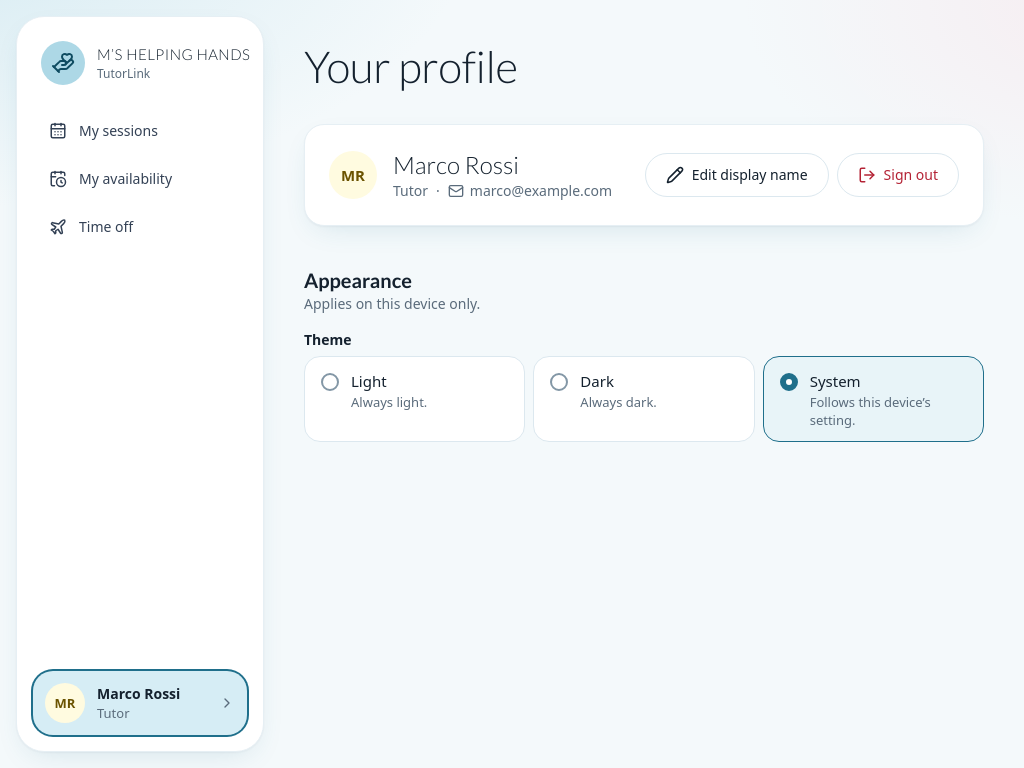
Test case: /availability › is reached from the Tutor's nav
Click the button "My availability". click: (140, 179)
box: [33,157,247,201]
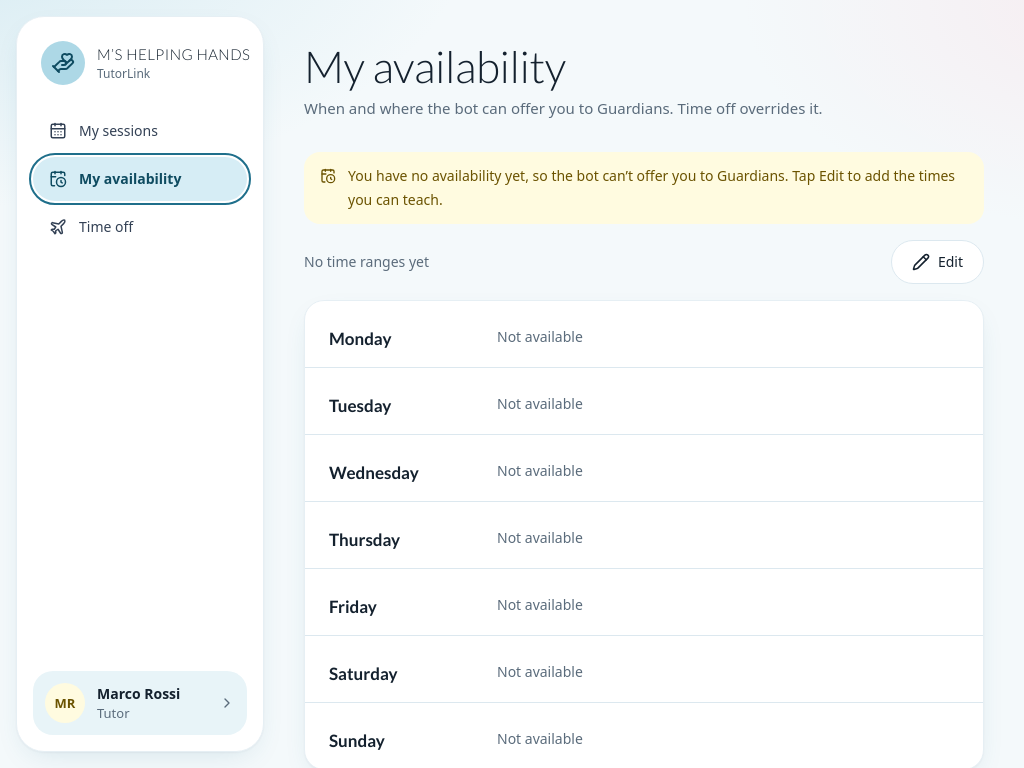
Result: the heading "My availability" is shown at [304,40,566,92]
